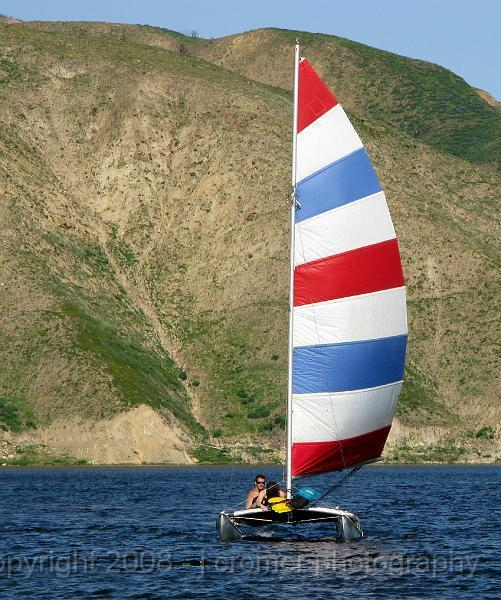Ship: (220, 44, 408, 549)
